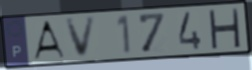1: (116, 13, 133, 56)
4: (178, 10, 203, 51)
7: (137, 12, 169, 55)
A: (31, 19, 67, 61)
H: (206, 8, 242, 49)
V: (63, 15, 99, 60)
